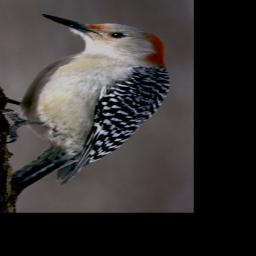Woodpecker: (0, 14, 171, 186)
